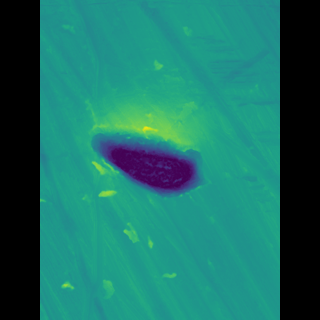Loch: (91, 0, 121, 320), (101, 117, 201, 205)
